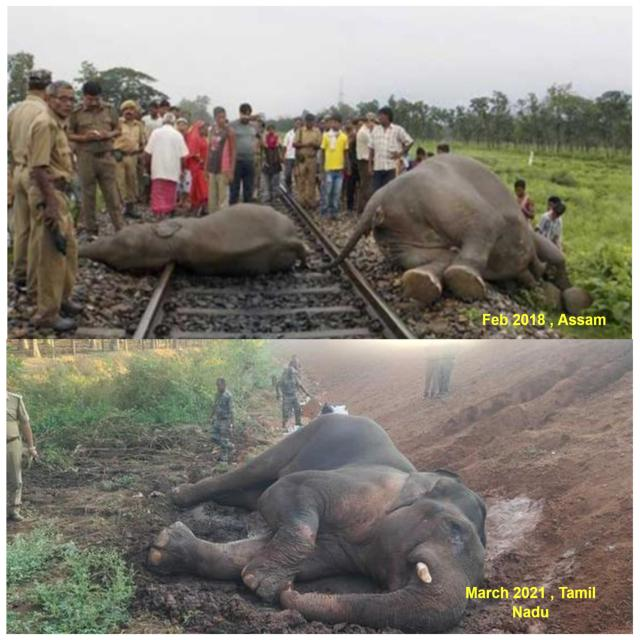Elephant: (152, 401, 499, 635), (354, 157, 603, 318), (85, 196, 322, 291)
